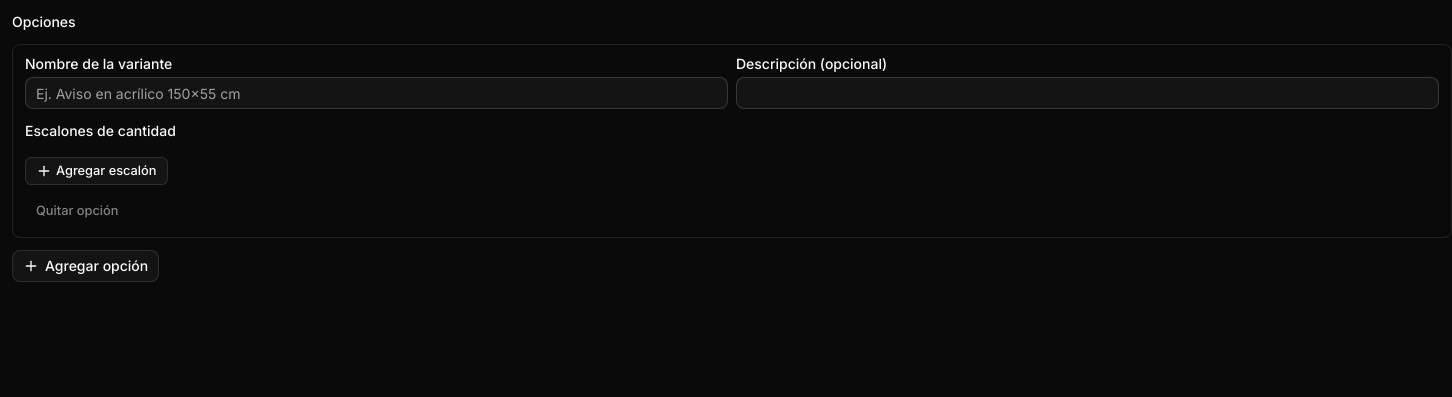
Test: CatalogVariantFields › previews a flat-total tier's derived per-unit price
Click the button "Agregar escalón": [96, 171] box [25, 157, 168, 185]
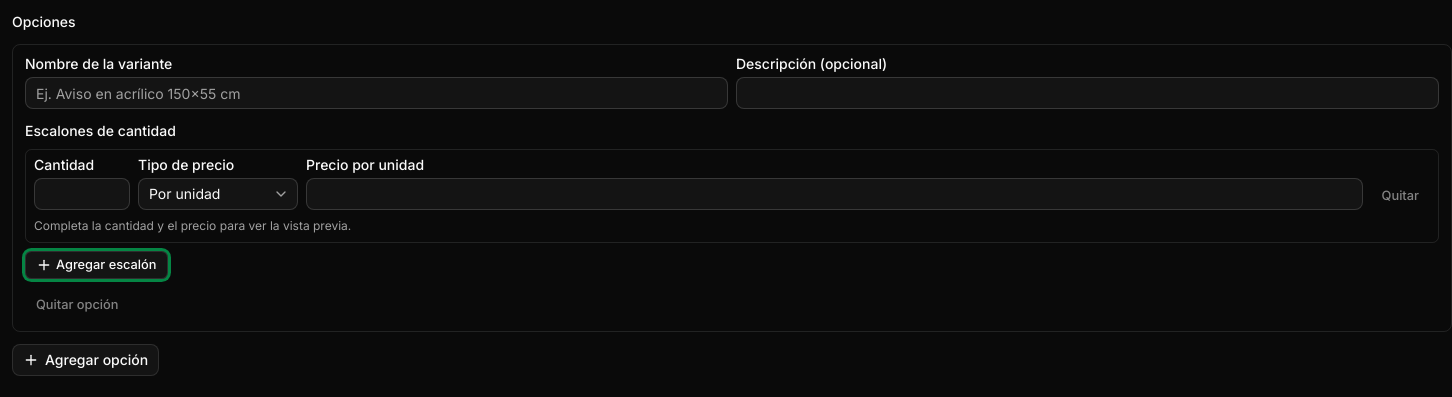
In the field labelled "Cantidad": [82, 194] box [34, 178, 130, 210], type "50"
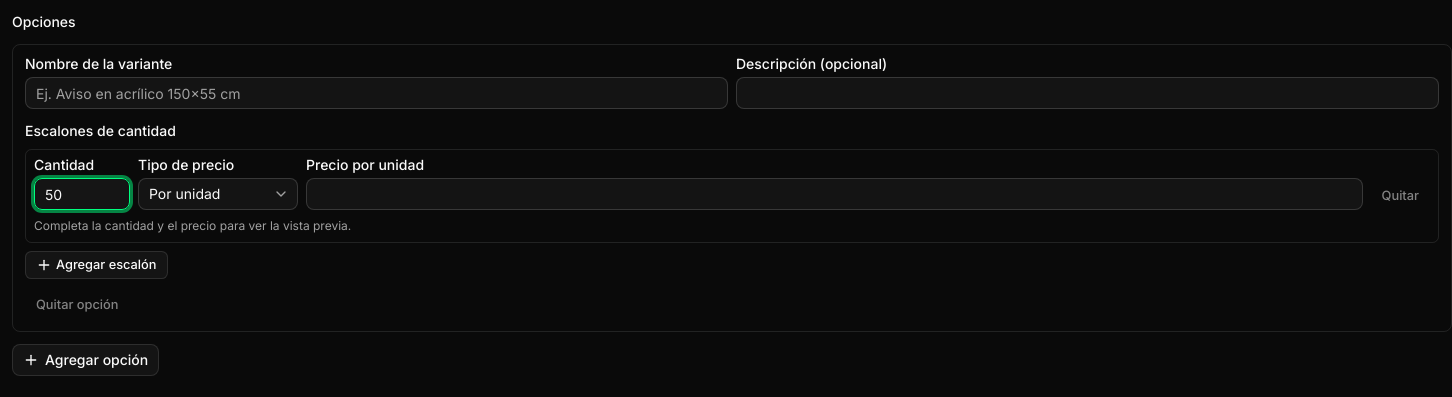
Click the dropdown named "tipo de precio": [218, 194] box [138, 178, 298, 210]
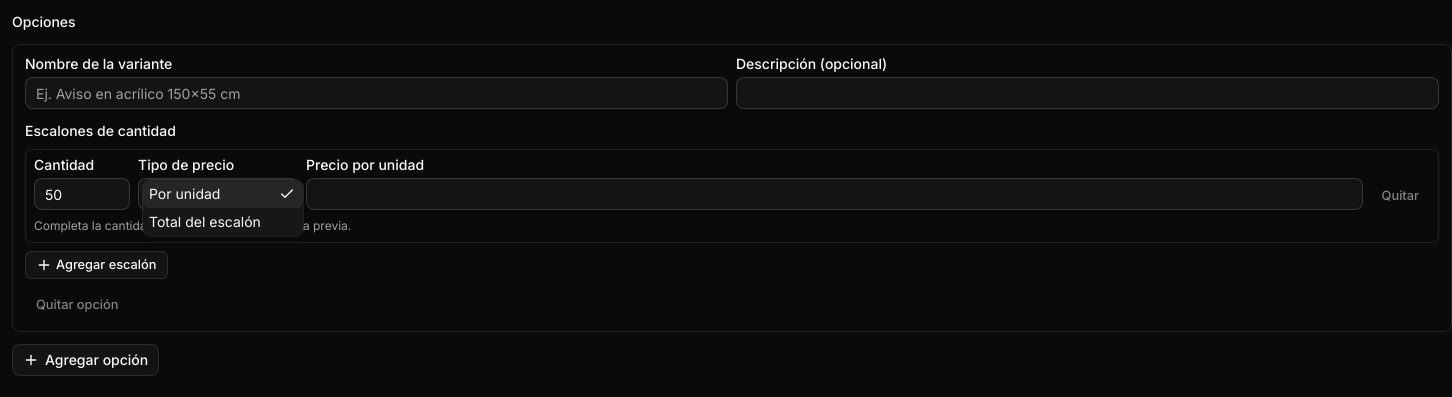
Click the option "Total del escalón": [205, 222] box [149, 213, 261, 230]
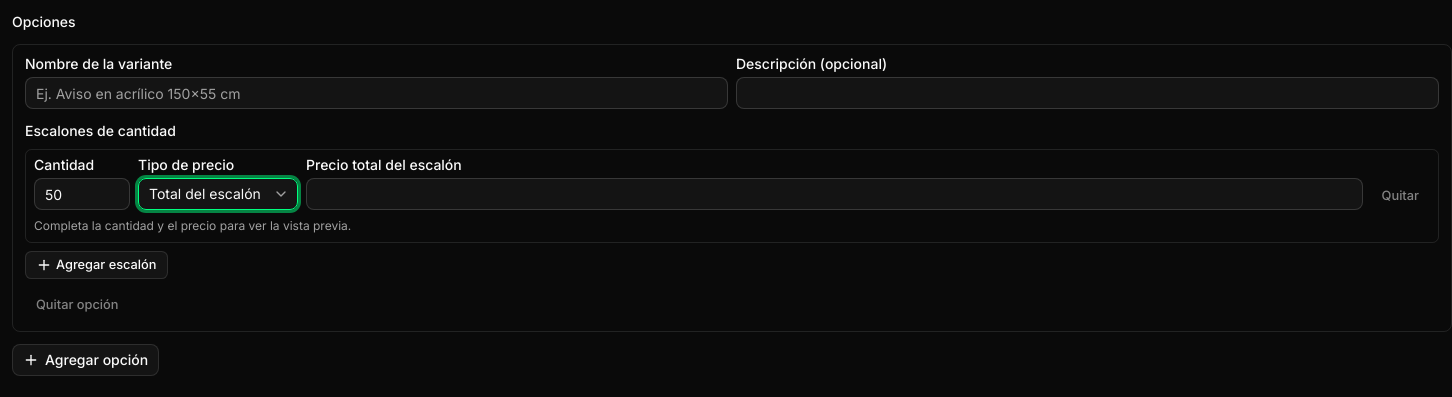
In the field labelled "Precio total del escalón": [834, 194] box [306, 178, 1363, 210], type "700000"
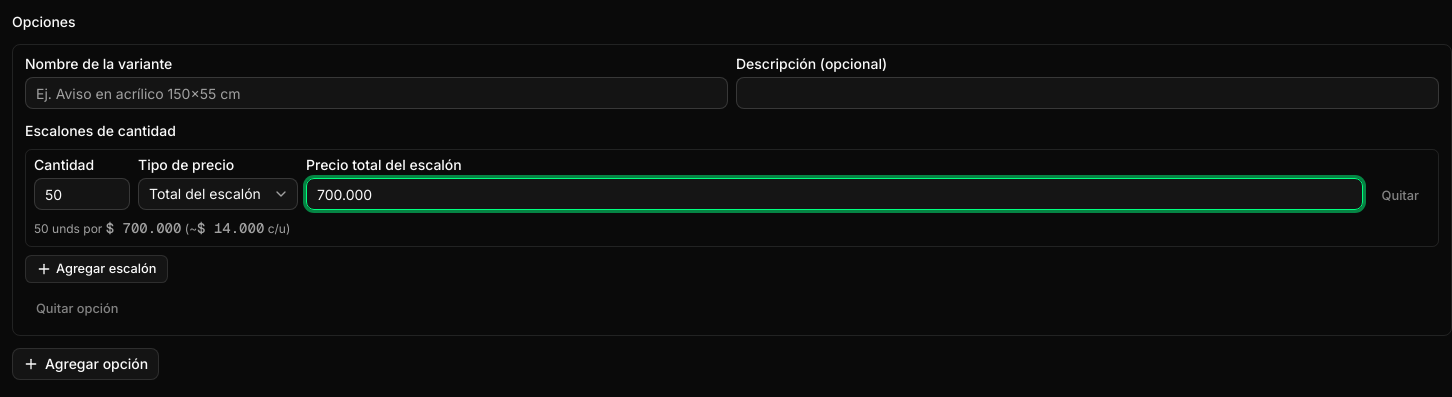
Check: the text "50 unds por $ 700.000 (~$ 14.000 c/u)" is shown, box [34, 219, 290, 237]
